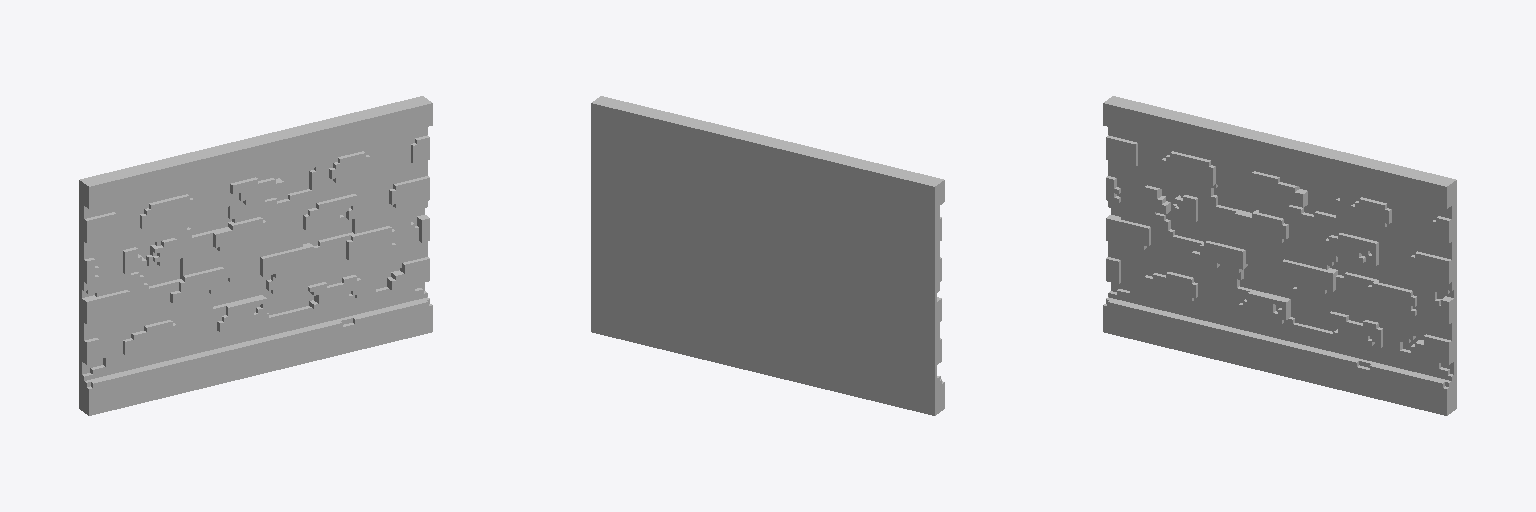
The model's file is Wall.obj.
The picture shows the model from 3 angles: view 1: azimuth 30°, elevation 25°; view 2: azimuth 150°, elevation 25°; view 3: azimuth 330°, elevation 25°; orthographic projection.
Visible parts, largest first — view 1: Wall; view 2: Wall; view 3: Wall.
Part boxes in pixels (x1,y1,x2,y2): Wall: (79,96,432,415); Wall: (591,96,944,415); Wall: (1103,96,1456,415).
Size of the model in its own units: 8 by 5.1 by 0.4.